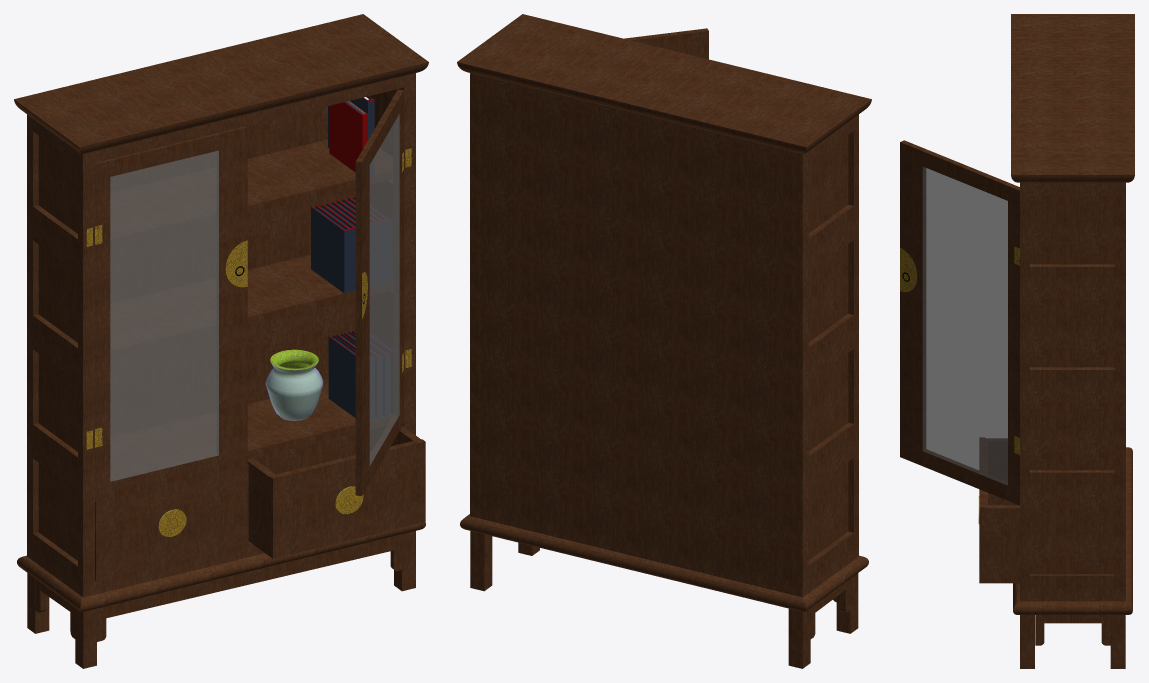
File: Bookshelf.dae
3 views of the same model, side by side, from view 1: azimuth 30°, elevation 25°; view 2: azimuth 150°, elevation 25°; view 3: azimuth 270°, elevation 25° (orthographic). The views are drawn at different scales.
Visible parts, largest first — view 1: SketchUp (×12), Door (×7), Shelf (×3), Drawer (×2), skeCE (×2), Inside_drawer (×2), skeC3 (×2), Foot (×3); view 2: SketchUp (×8), Foot (×3), Door; view 3: SketchUp (×8), Door (×4), Inside_drawer (×2), Foot (×2), Drawer.
Boxes of the visible parts, x1,y1,x2,y2 form: SketchUp (×12): [14, 14, 428, 641]; Door (×7): [95, 89, 403, 501]; Shelf (×3): [110, 139, 392, 477]; Drawer (×2): [96, 441, 425, 581]; skeCE (×2): [265, 351, 323, 420]; Inside_drawer (×2): [247, 426, 420, 558]; skeC3 (×2): [311, 207, 355, 417]; Foot (×3): [27, 531, 415, 668]; SketchUp (×8): [457, 14, 871, 638]; Foot (×3): [470, 531, 858, 668]; Door: [624, 28, 708, 59]; SketchUp (×8): [1011, 14, 1134, 645]; Door (×4): [900, 140, 1019, 505]; Inside_drawer (×2): [980, 438, 1019, 583]; Foot (×2): [1020, 615, 1125, 668]; Drawer: [979, 437, 985, 583].
Bounding box in the file's own units: 49.61 × 30.59 × 71.56.
